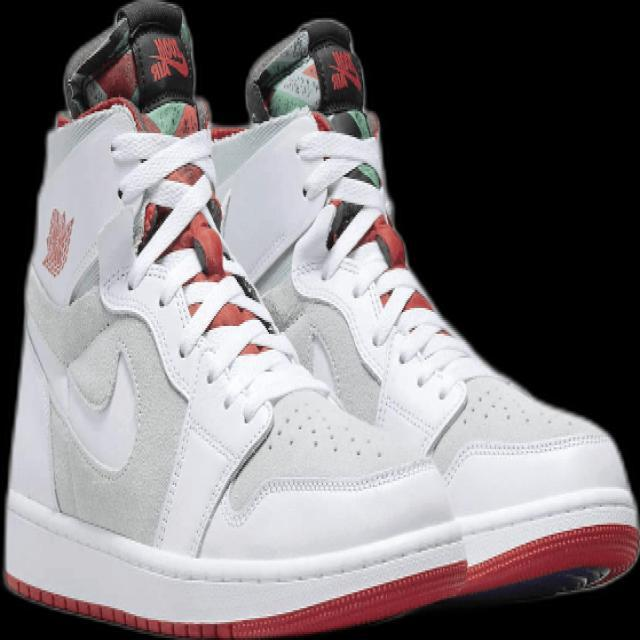J1_InsoleChar: (1, 0, 639, 639)
J1_ShoeLogo: (40, 206, 75, 277), (146, 35, 190, 83), (323, 46, 363, 94)
J1_ShoeShape: (60, 0, 198, 119)
J1_StitchPattern: (109, 105, 472, 443), (290, 108, 475, 444), (114, 107, 294, 399), (366, 277, 469, 390), (295, 124, 387, 248), (273, 397, 372, 461)
